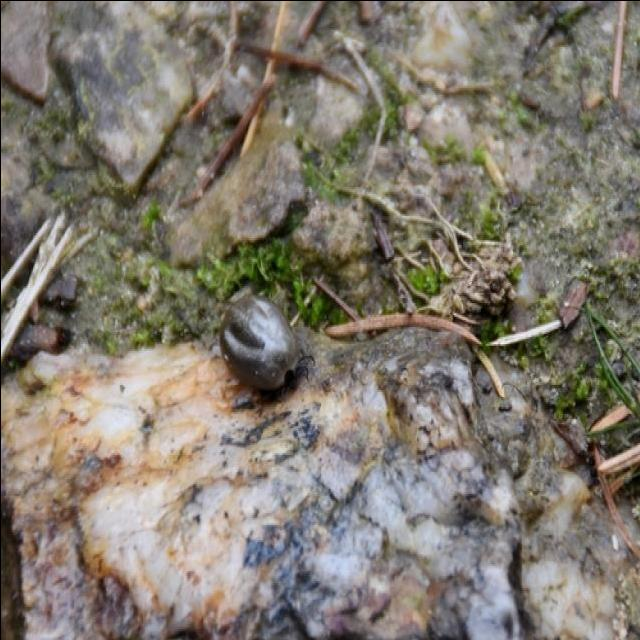Ixodes Ricinus-F-Fed: (219, 287, 315, 398)
